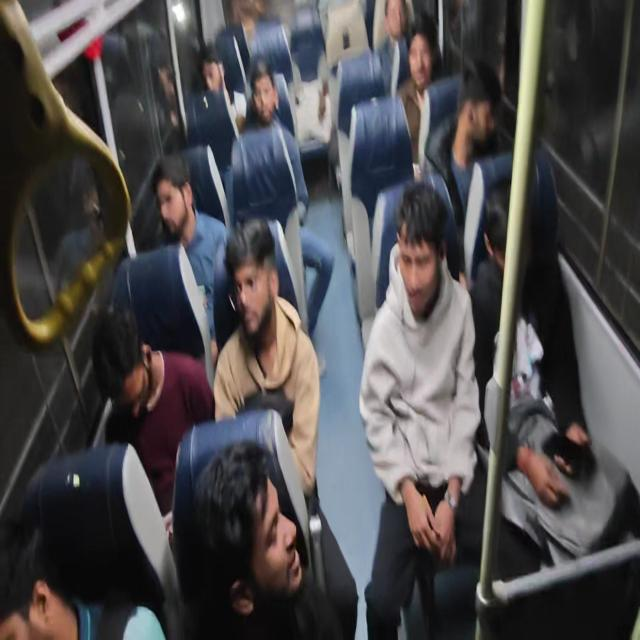person: (3, 1, 636, 638), (474, 158, 636, 571), (358, 180, 482, 638), (469, 152, 589, 454), (1, 442, 180, 639), (188, 439, 342, 638), (212, 217, 320, 497), (231, 59, 334, 342), (91, 302, 215, 524), (112, 152, 234, 377), (232, 57, 309, 227), (428, 59, 503, 224), (0, 522, 80, 639), (187, 44, 239, 171), (396, 24, 437, 174), (376, 0, 411, 94), (154, 59, 186, 151)
